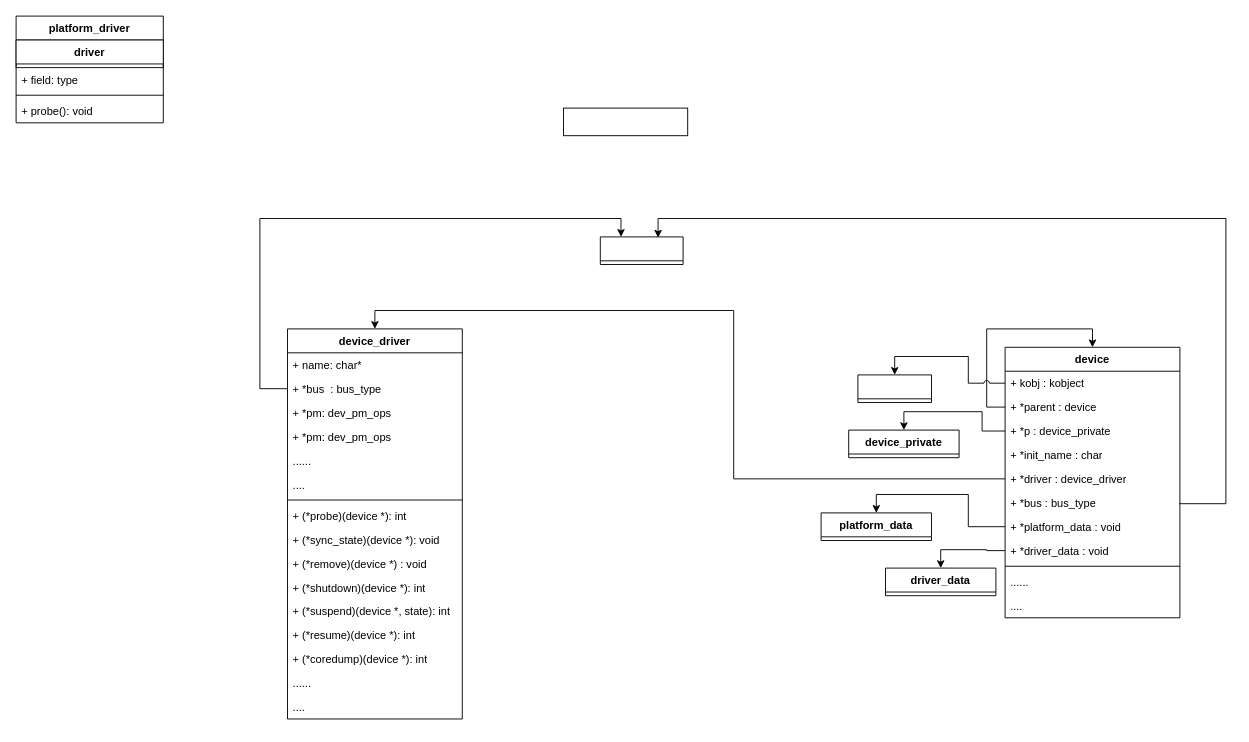
Some shapes in this 1249 by 742 pixel diagram are drawn without their labels. The centre of each missing label's shape, as x and y in pixels:
"bus_type" goes at pixel 641 250.
"kernel 6.0" goes at pixel 625 121.
"kobject" goes at pixel 894 388.
